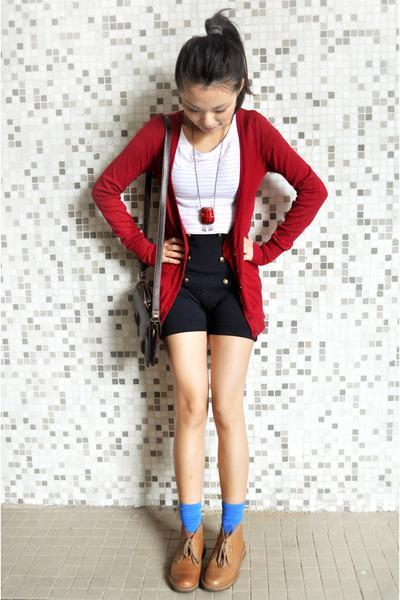bag: (128, 254, 162, 337)
jacket: (90, 108, 327, 341)
shirt: (164, 132, 239, 235)
shoe: (177, 510, 246, 586)
shorts: (146, 234, 251, 345)
